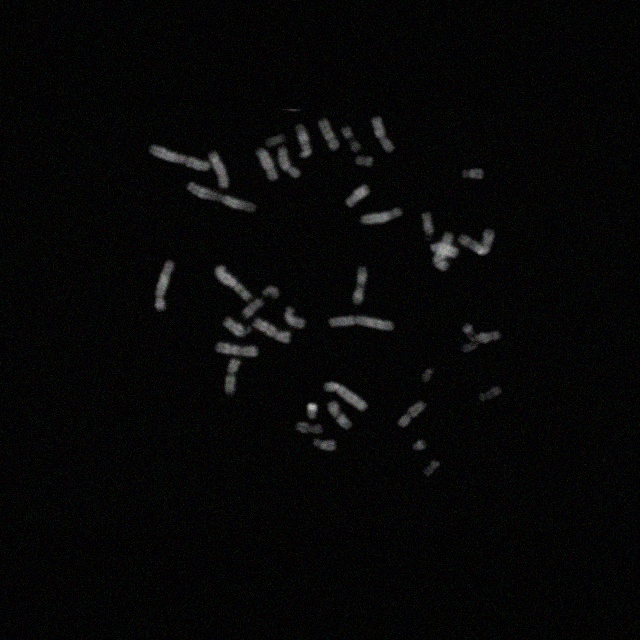chromosome: (187, 183, 255, 213), (150, 145, 210, 171), (324, 382, 368, 412), (214, 266, 252, 300), (328, 316, 394, 332), (252, 318, 290, 344), (154, 260, 173, 312), (458, 230, 494, 254), (434, 231, 454, 271), (372, 116, 394, 152), (398, 402, 427, 428), (256, 148, 278, 182), (327, 400, 351, 430), (208, 151, 228, 187), (318, 118, 340, 150), (360, 208, 402, 224), (278, 148, 300, 178), (352, 265, 368, 305), (225, 358, 241, 396), (216, 342, 258, 356), (296, 124, 312, 158), (222, 318, 250, 337), (342, 127, 362, 153), (346, 185, 369, 207), (460, 324, 478, 352), (242, 299, 264, 319), (431, 242, 457, 258), (285, 308, 305, 328), (475, 331, 503, 344), (294, 422, 324, 434), (313, 438, 337, 452), (480, 387, 500, 401), (422, 212, 434, 235), (424, 460, 441, 476), (265, 135, 285, 147), (462, 169, 482, 179), (263, 287, 279, 299), (307, 402, 317, 420), (356, 156, 372, 167), (412, 441, 426, 452), (421, 369, 432, 383)
